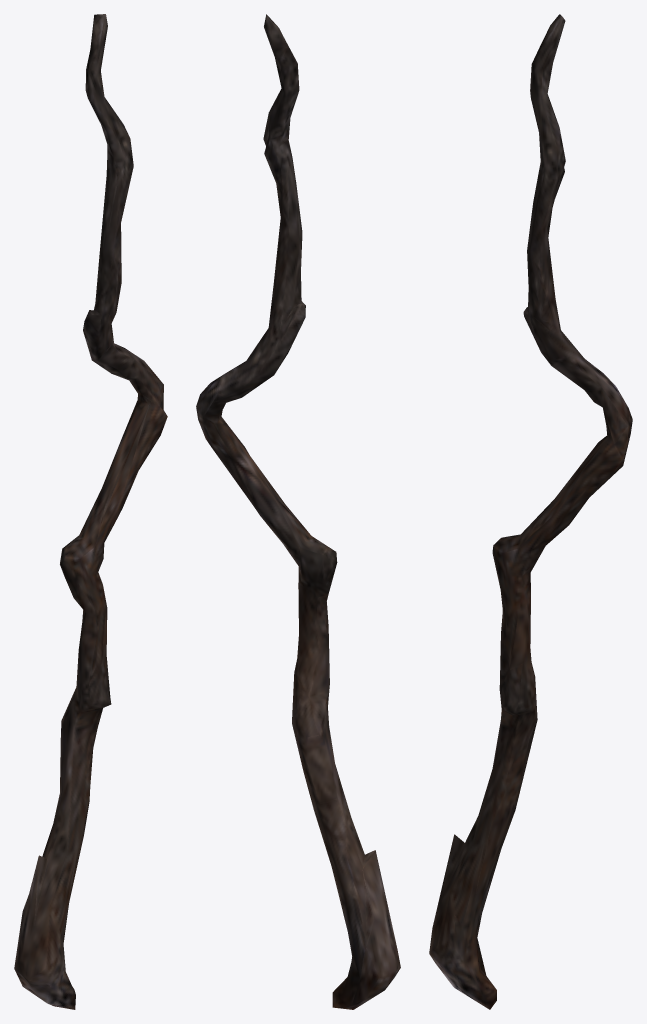
File: branch2.fbx
3 views of the same model, side by side, from view 1: azimuth 30°, elevation 25°; view 2: azimuth 150°, elevation 25°; view 3: azimuth 330°, elevation 25° (orthographic). The views are drawn at different scales.
Visible parts, largest first — view 1: Group20320; view 2: Group20320; view 3: Group20320.
Part boxes in pixels (x1,y1,x2,y2): Group20320: (14,14,167,1009); Group20320: (196,14,400,1009); Group20320: (429,14,632,1009).
Bounding box in the file's own units: 29.68 × 162 × 14.28.
Materials: 1 (1 with a texture image).
